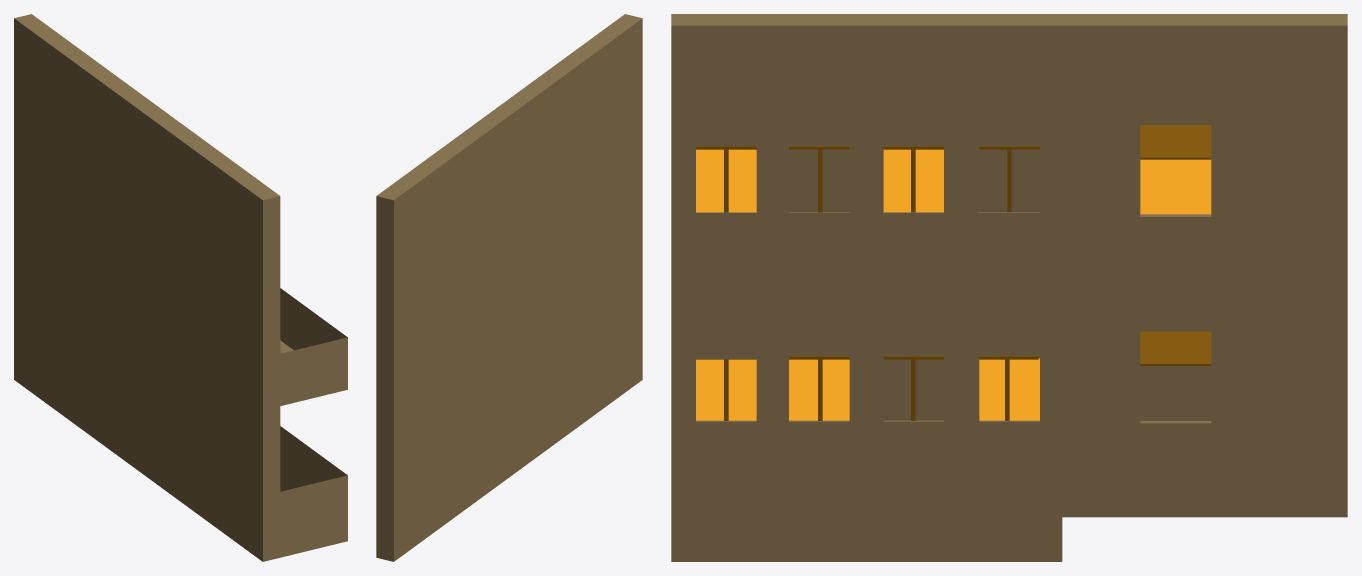
File: Building2.fbx
The picture shows the model from 3 angles, left to right: view 1: azimuth 30°, elevation 25°; view 2: azimuth 150°, elevation 25°; view 3: azimuth 270°, elevation 25°; orthographic projection. The views are drawn at different scales.
Parts seen in each view (by area): view 1: Plane; view 2: Plane; view 3: Plane.
Boxes of the visible parts, bbox=[...] form: Plane: bbox=[14, 14, 347, 561]; Plane: bbox=[376, 14, 642, 561]; Plane: bbox=[671, 14, 1347, 561].
Size of the model in its own units: 111 by 449 by 560.
